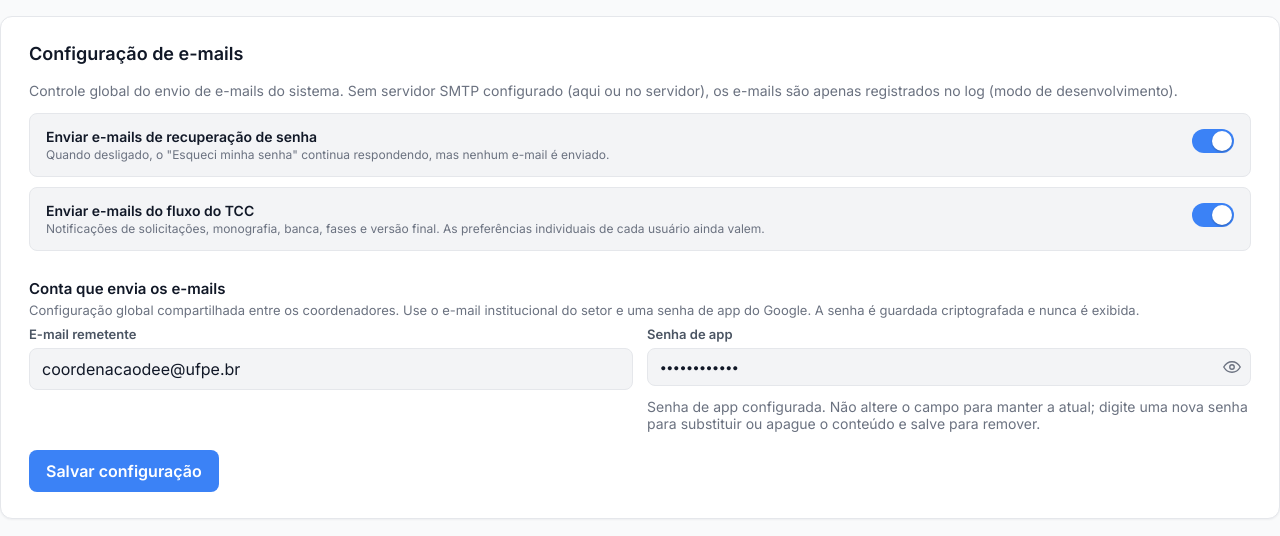
Test case: Revelar a senha de app pelo olho (sem modal) › clicar no olho mostra a senha no próprio campo, sem pedir nada
Check: the heading "Conta que envia os e-mails" is shown, box top-left (29, 279), bottom-right (226, 298)
Click the button named "Mostrar senha de app": (1231, 367) top-left (1217, 353), bottom-right (1245, 381)
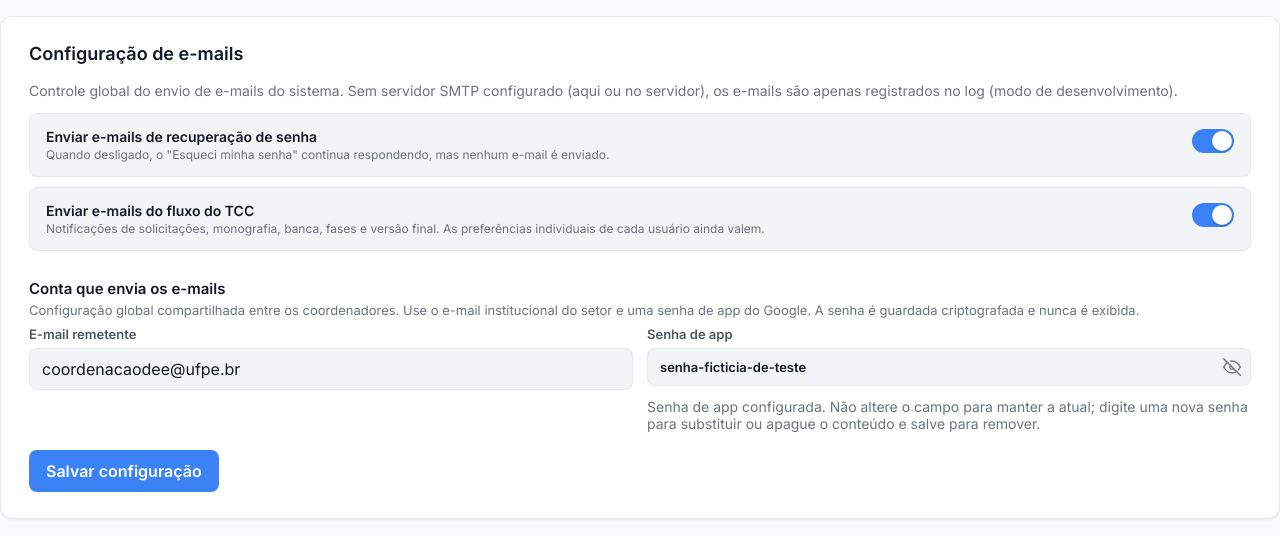
Check: the field labelled "Senha de app" shows its text, box top-left (647, 348), bottom-right (1251, 386)
